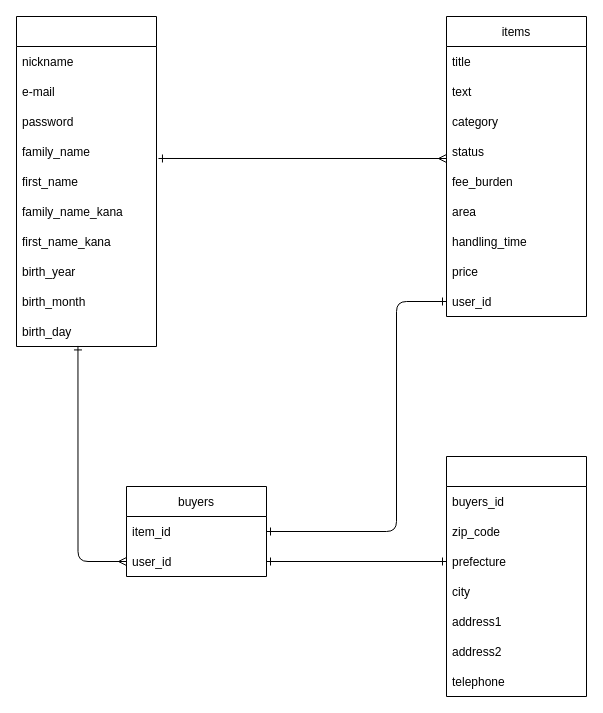
The diagram is 603 pixels wide and 713 high, and some of its shapes have lost their labels. The box of each missing label's shape, as (x1, y1, x2, y2) in pixels:
shipping: (446, 456, 586, 696)
users: (16, 16, 156, 346)
